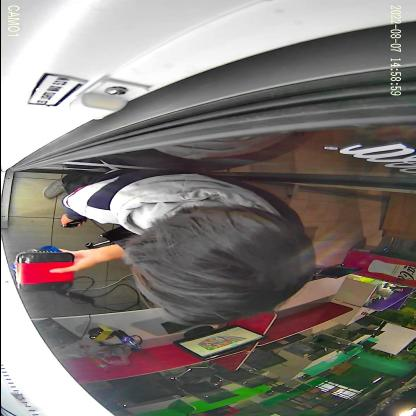green: (9, 245, 62, 272)
red: (15, 250, 73, 292)
